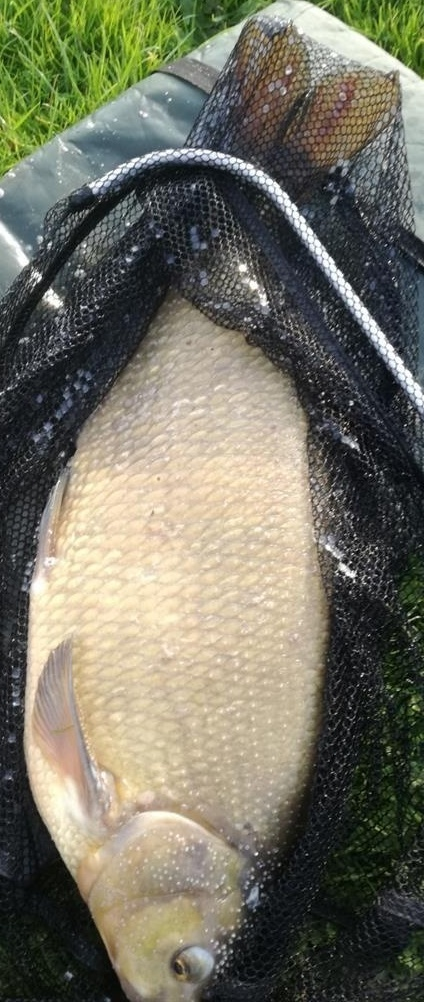Abramis brama: (20, 20, 404, 1002)
